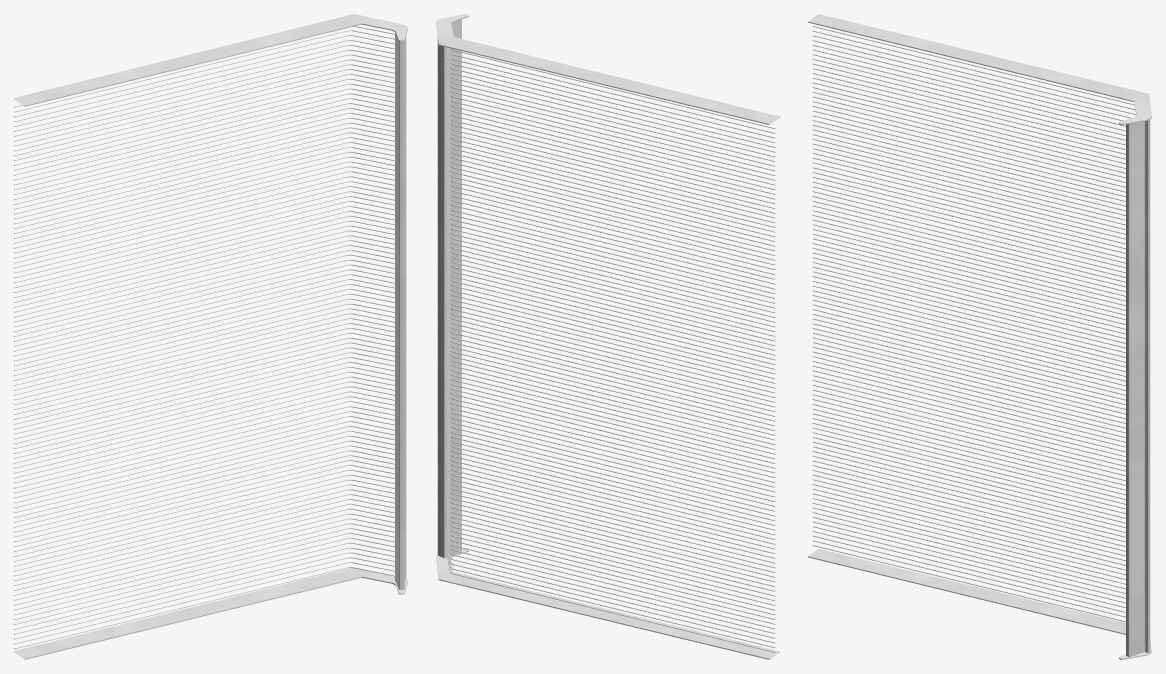
The model's file is ShelfBasketBase02.obj.
The picture shows the model from 3 angles, left to right: view 1: azimuth 30°, elevation 25°; view 2: azimuth 150°, elevation 25°; view 3: azimuth 330°, elevation 25°; orthographic projection. The views are drawn at different scales.
Visible parts, largest first — view 1: ShelfBasketBase02; view 2: ShelfBasketBase02; view 3: ShelfBasketBase02.
Part boxes in pixels (left/top/right/bottom): ShelfBasketBase02: left=14, top=14, right=407, bottom=659; ShelfBasketBase02: left=436, top=14, right=779, bottom=659; ShelfBasketBase02: left=808, top=14, right=1151, bottom=659.
Size of the model in its own units: 0.699 by 0.9986 by 0.1281.
1 material, 1 textured.
